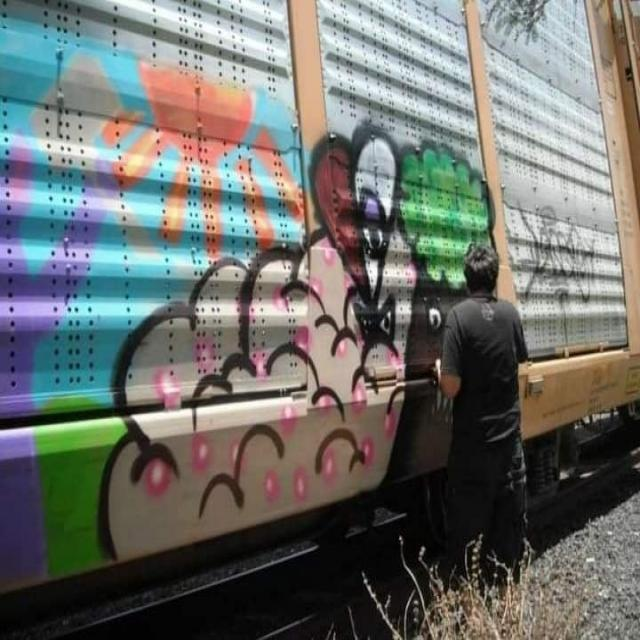nonspitting: (520, 206, 598, 302)
spitting: (2, 16, 494, 590)
